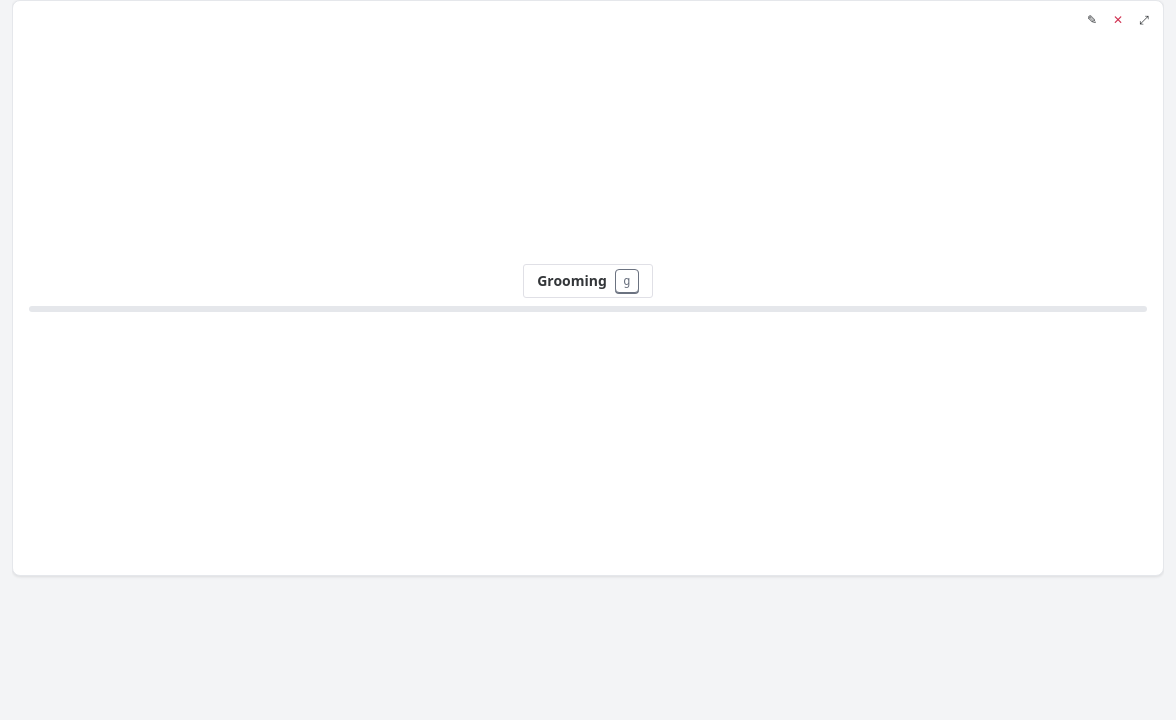
Scenario: SubjectCard › renders the description when present, once expanded
Click the button with class "subject-card__expand-toggle" at {"x": 1144, "y": 20}, box [1133,9,1155,31]
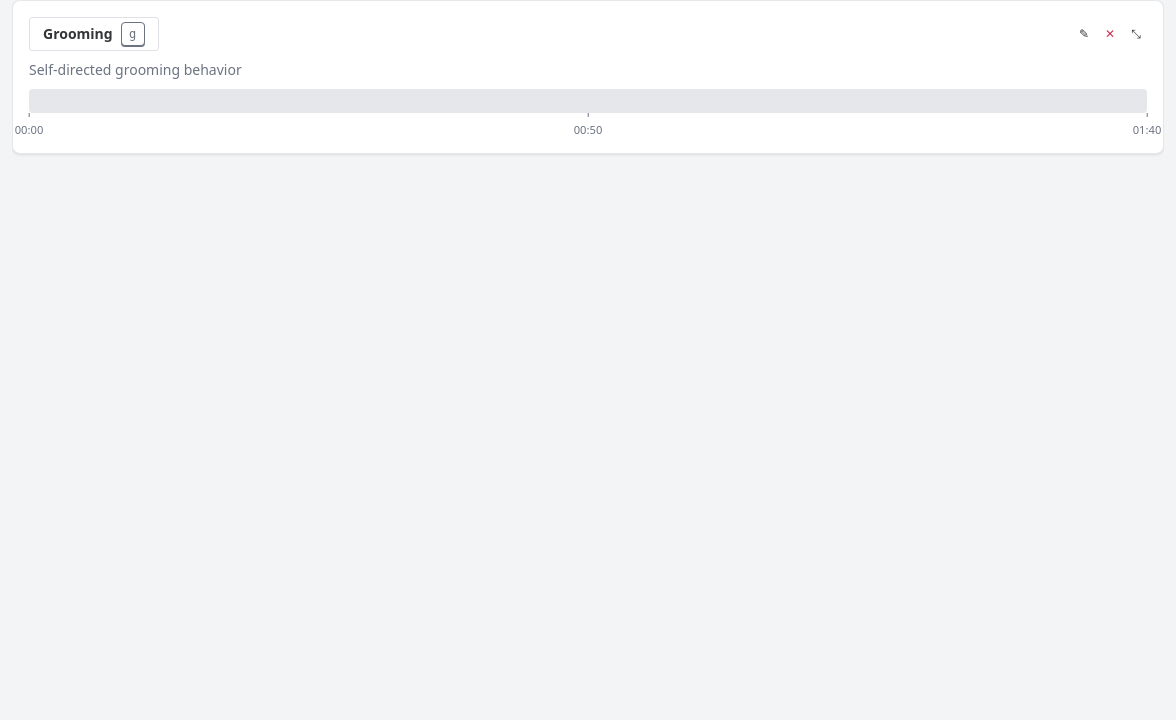
Check: the text "Self-directed grooming behavior" is shown, box [29,60,242,79]
